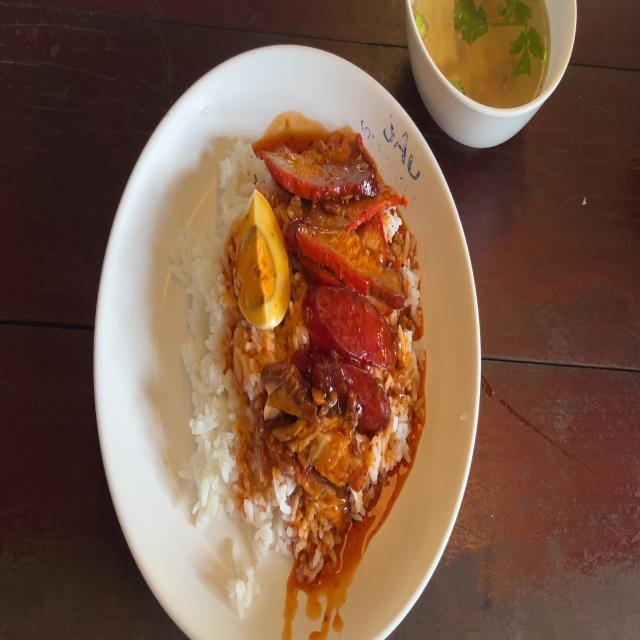01boiled_egg: (238, 198, 286, 321)
01chainese_sausage: (307, 296, 390, 402)
01crispy_pork: (286, 427, 375, 513), (264, 370, 315, 454)
01red_pork: (308, 200, 404, 291), (279, 137, 371, 230)
01red_pork_and_crispy_pork: (185, 147, 416, 539)
01rice: (188, 182, 233, 476), (226, 326, 273, 593)
